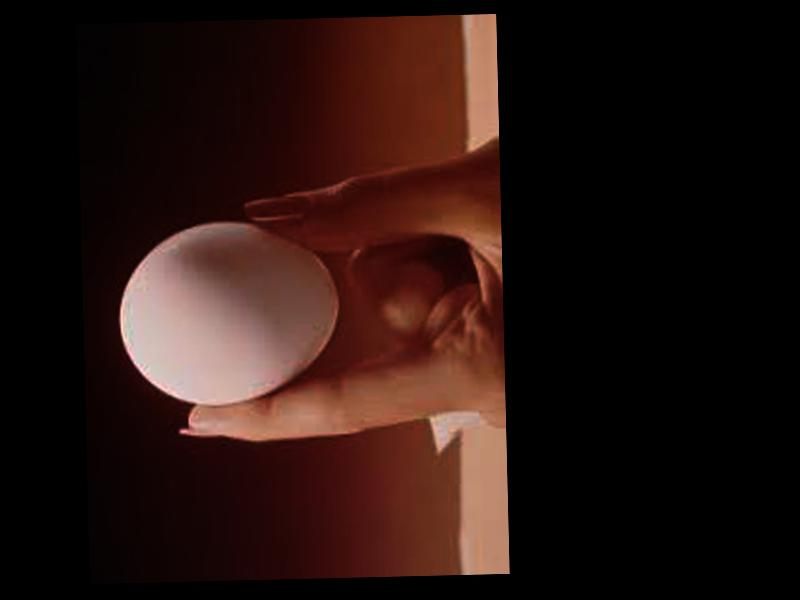Eggs: (116, 217, 342, 409)
